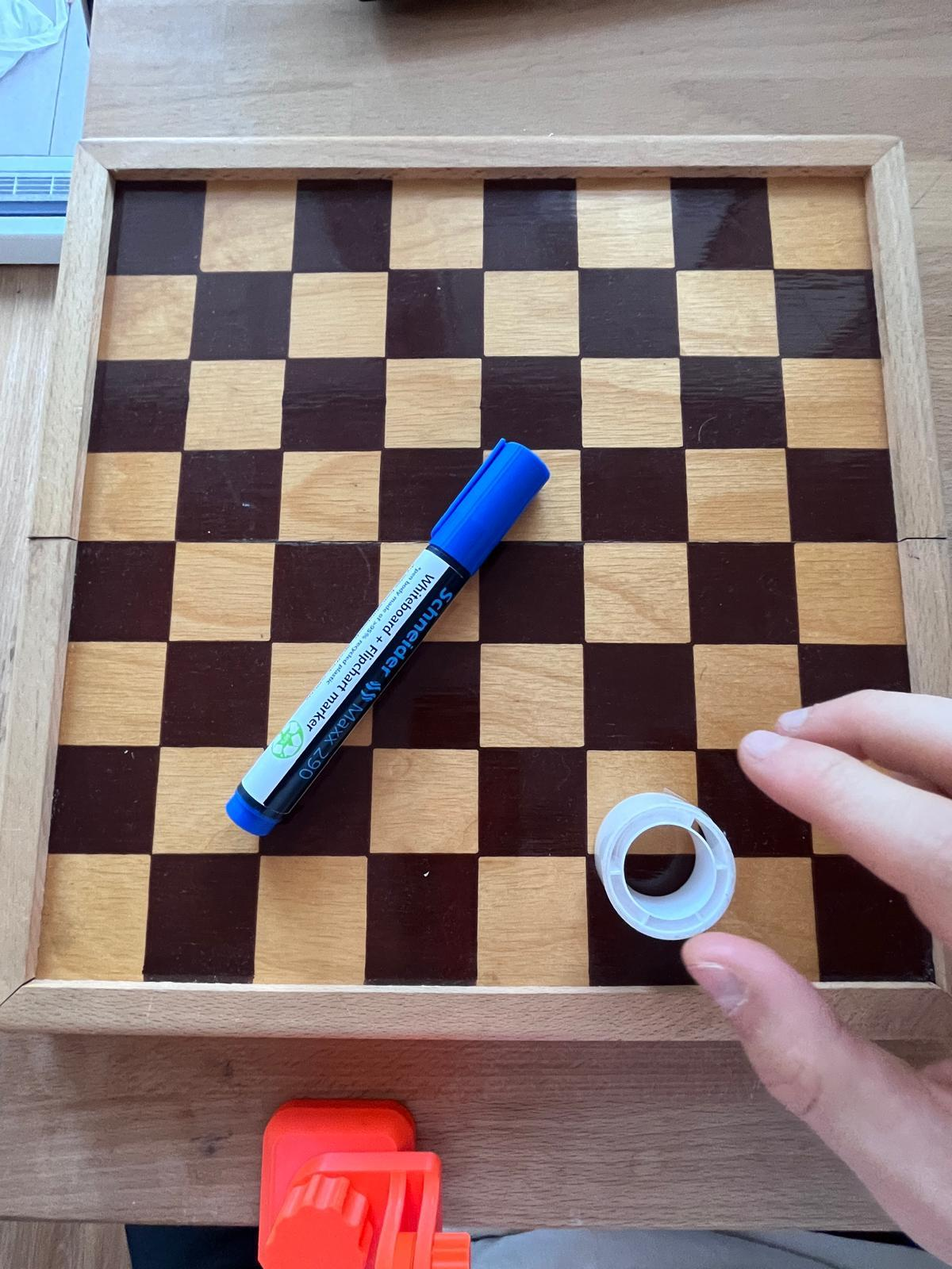marker: (221, 446, 552, 833)
tape: (597, 796, 731, 949)
